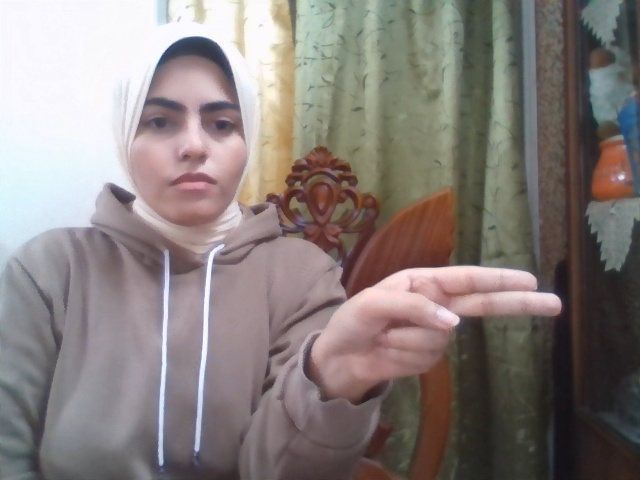H: (325, 265, 563, 384)
